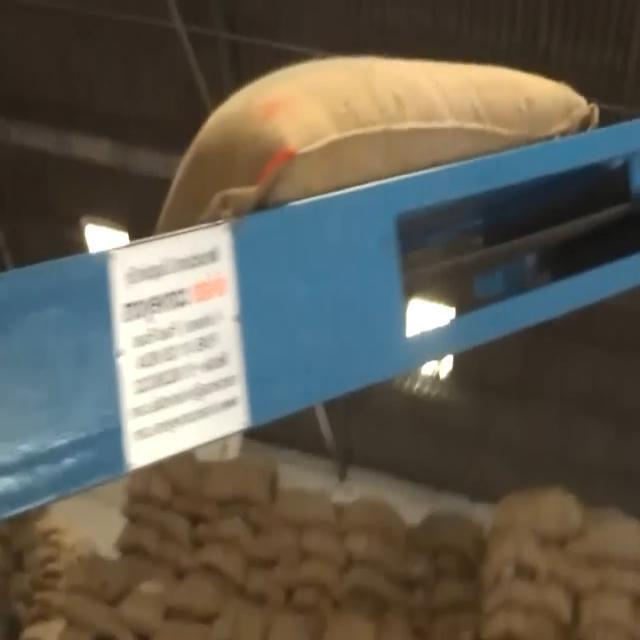gunny_bag: (153, 55, 590, 234)
